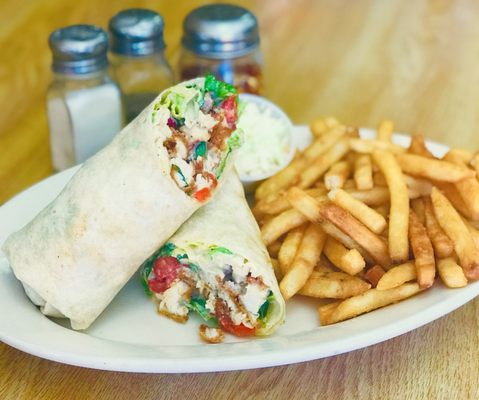curry: (2, 4, 479, 396)
